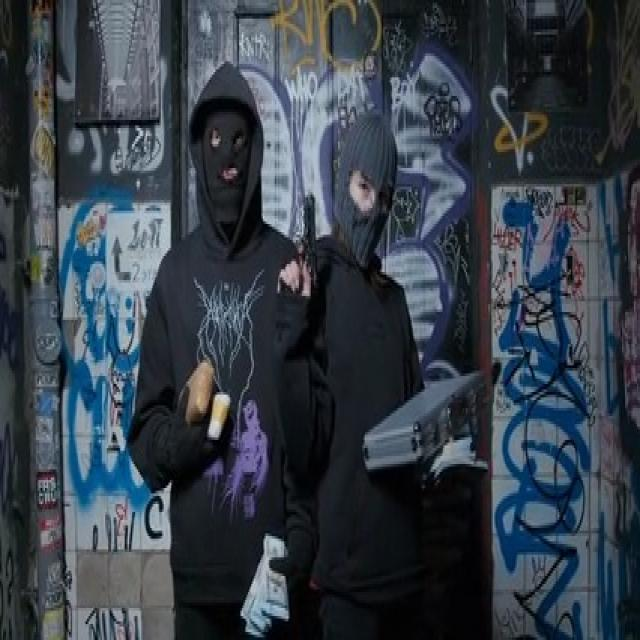Gun_Holder: (271, 186, 334, 315)
Person: (131, 55, 317, 640), (291, 85, 469, 640)
